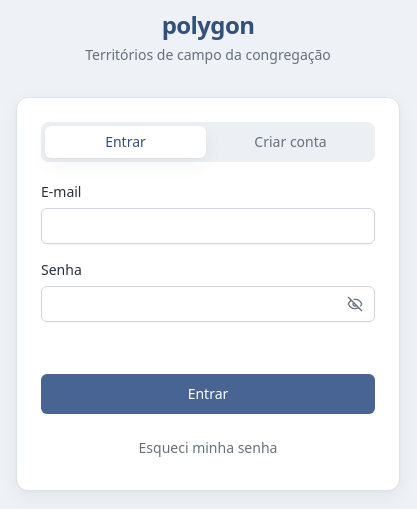
Test: Login › avisa quando a conta já existe
The image size is (417, 509).
Click the tab "Criar conta" at (290, 142), box [210,126,371,158]
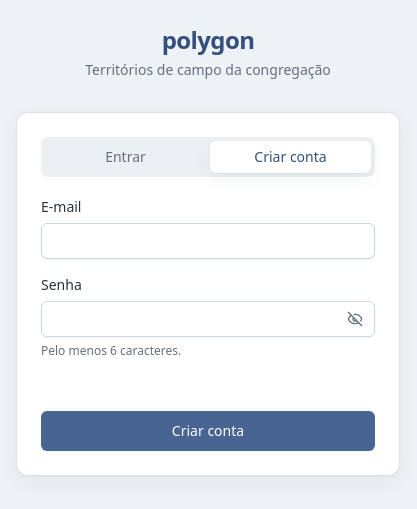
Type "Ana@Exemplo.com" into the field labelled "E-mail" at (208, 241), box [41,223,375,259]
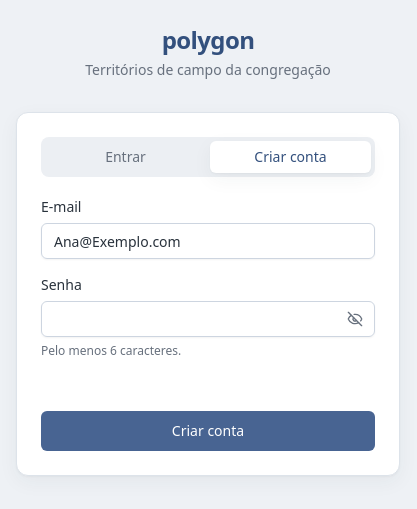
Type "segredo1" into the password field labelled "Senha" at (208, 319), box [41,301,375,337]
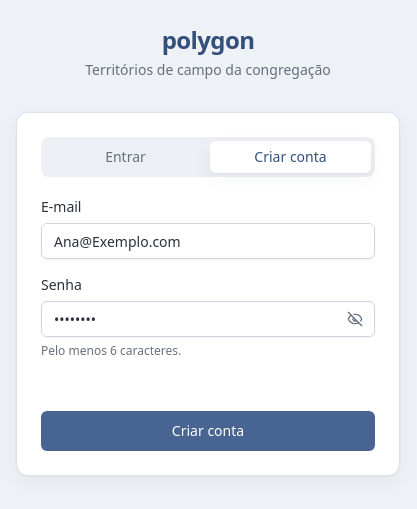
Click the button "Criar conta" at (208, 431), box [41,411,375,451]
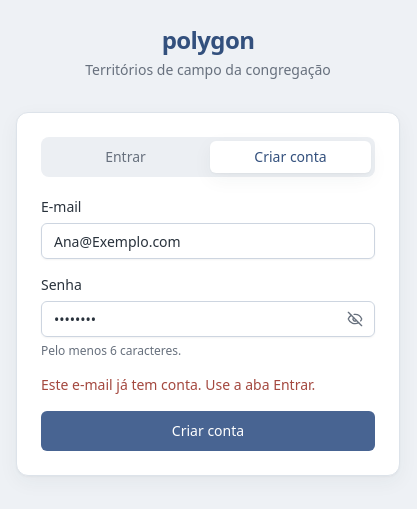
expect the message shows "já tem conta": met, box [41,375,315,394]
